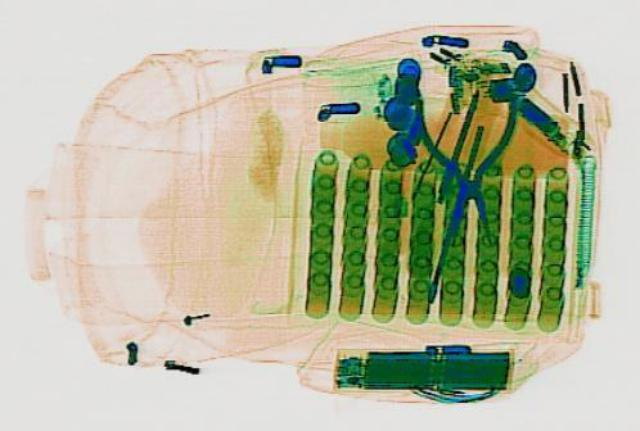Pliers: (411, 96, 515, 247)
